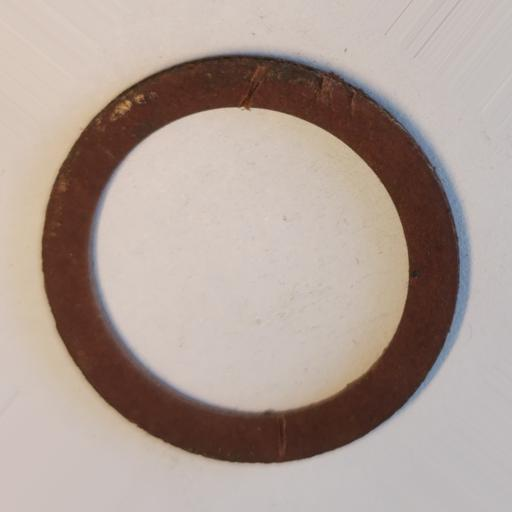defect: (309, 71, 365, 117), (238, 62, 270, 110), (278, 414, 288, 458)
